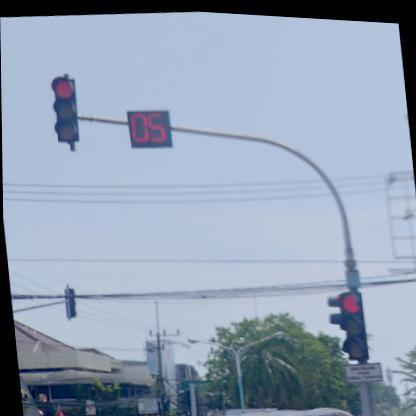red: (48, 74, 82, 143), (336, 286, 368, 356)
